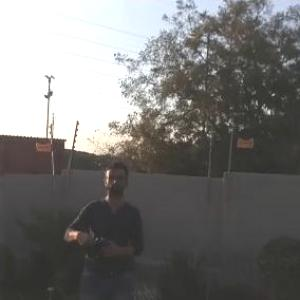follow: (58, 156, 148, 299)
